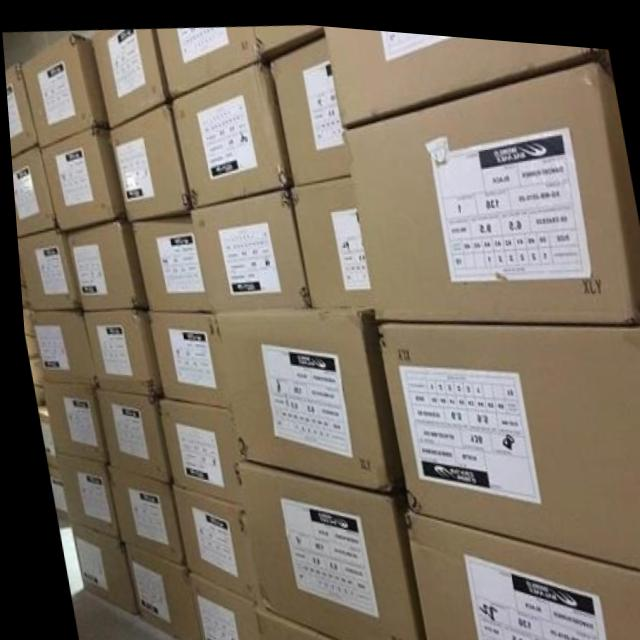box: (339, 50, 640, 312), (372, 318, 640, 560), (395, 502, 640, 640), (228, 456, 408, 640), (205, 303, 382, 488), (324, 21, 612, 121), (170, 59, 285, 203), (187, 185, 308, 311), (269, 31, 349, 180), (285, 169, 369, 302), (164, 479, 252, 601), (20, 31, 106, 147), (109, 103, 188, 219), (151, 396, 235, 500), (142, 308, 227, 408), (38, 126, 120, 229), (63, 218, 145, 309), (128, 213, 205, 309), (117, 541, 190, 640), (100, 465, 174, 562), (156, 25, 257, 96), (89, 27, 161, 126), (88, 390, 161, 479), (78, 307, 153, 392), (63, 523, 128, 612), (48, 451, 111, 538), (179, 566, 251, 640), (14, 227, 76, 309), (39, 383, 101, 463), (25, 308, 88, 383), (9, 147, 53, 235), (246, 601, 338, 640), (4, 62, 35, 155), (254, 21, 324, 49)
